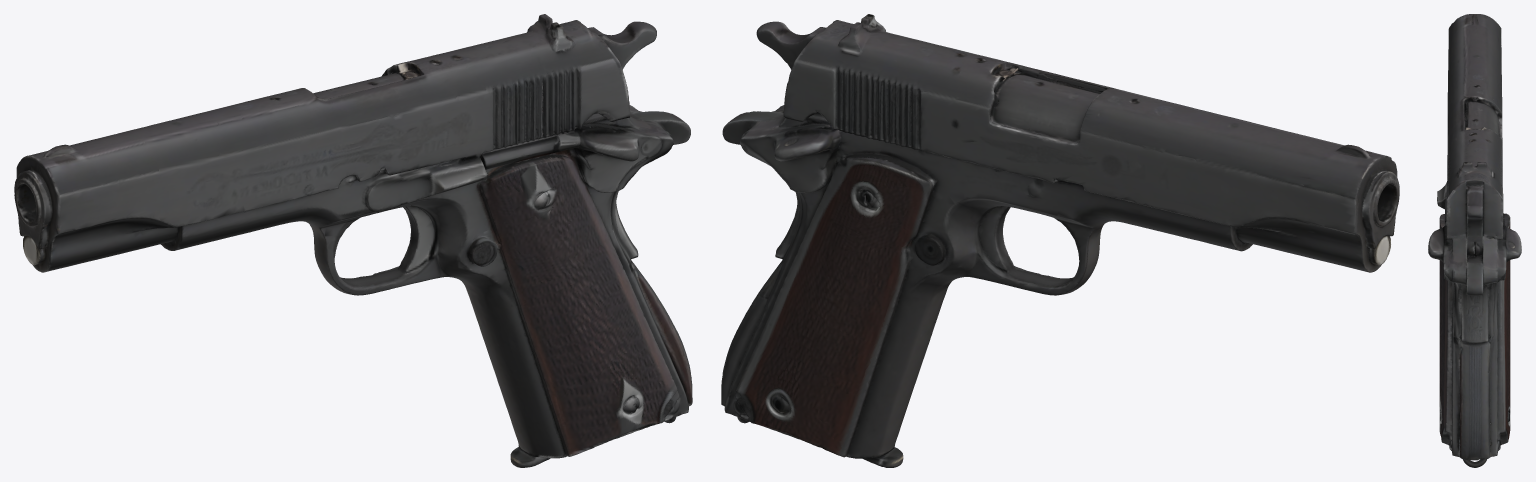
File: Colt_M1911A1_Pistol_1030144742_texture.fbx
The picture shows the model from 3 angles, left to right: view 1: azimuth 30°, elevation 25°; view 2: azimuth 150°, elevation 25°; view 3: azimuth 270°, elevation 25°; orthographic projection. The views are drawn at different scales.
Parts seen in each view (by area): view 1: input; view 2: input; view 3: input.
Part boxes in pixels (left/top/right/bottom): input: left=14, top=14, right=692, bottom=467; input: left=721, top=14, right=1399, bottom=467; input: left=1428, top=14, right=1521, bottom=467.
Size of the model in its own units: 190 by 120 by 37.22.
1 material, 1 textured.
